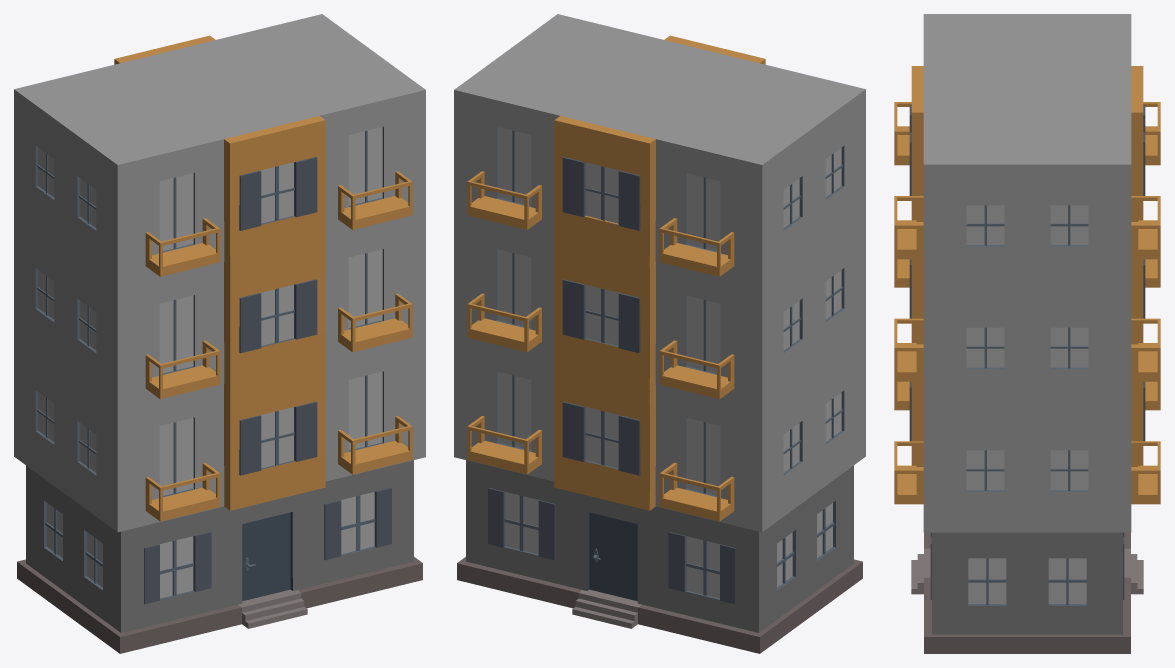
The model's file is FD-House Orange.fbx.
3 views of the same model, side by side, from view 1: azimuth 30°, elevation 25°; view 2: azimuth 150°, elevation 25°; view 3: azimuth 270°, elevation 25° (orthographic).
Visible parts, largest first — view 1: immeuble; view 2: immeuble; view 3: immeuble.
Boxes of the visible parts, <box> form: immeuble: <box>14,14,425,653</box>; immeuble: <box>454,14,865,653</box>; immeuble: <box>894,14,1160,653</box>.
Size of the model in its own units: 4482 by 6804 by 3346.
